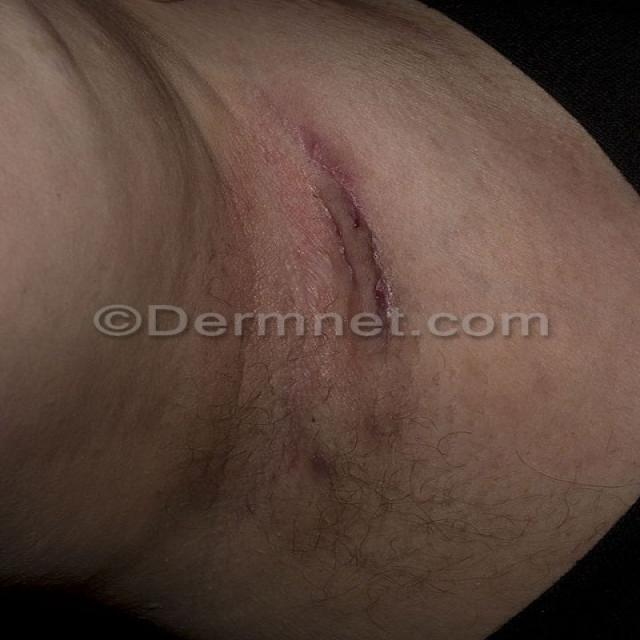Dry-Skin: (278, 98, 494, 320), (94, 1, 250, 125)
